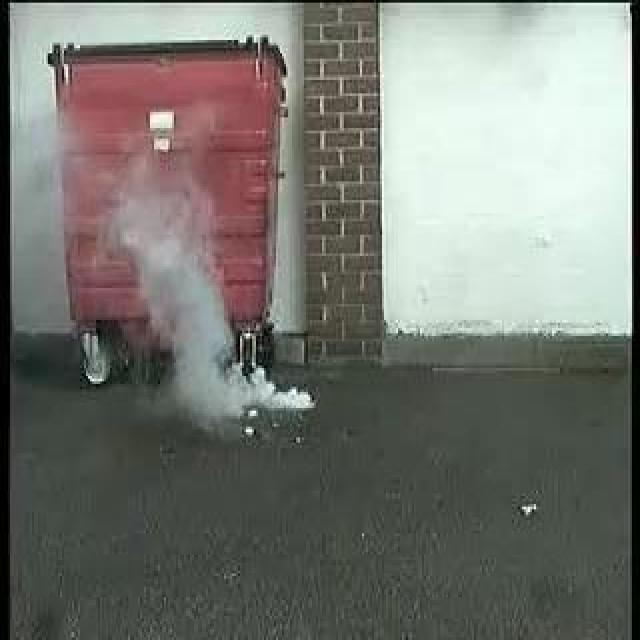Smoke: (115, 194, 315, 418)
